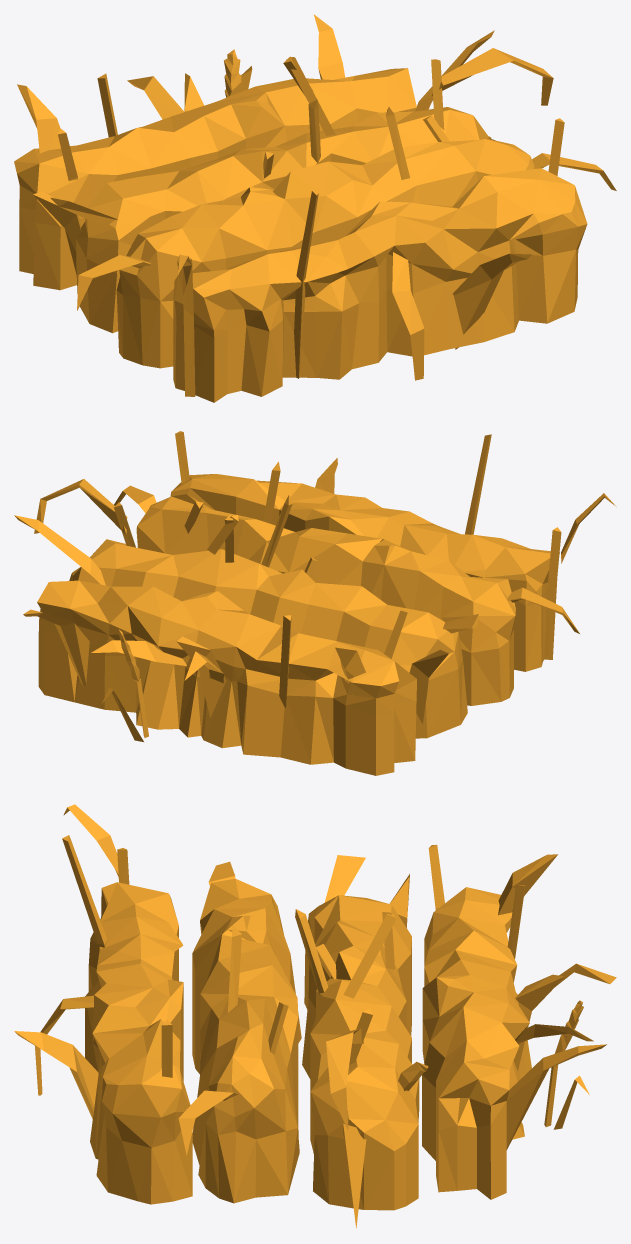
File: SM_Wheat_Harvested_Square_1x1m_A.fbx
The picture shows the model from 3 angles, top to bottom: view 1: azimuth 30°, elevation 25°; view 2: azimuth 150°, elevation 25°; view 3: azimuth 270°, elevation 25°; orthographic projection. The views are drawn at different scales.
Visible parts, largest first — view 1: wheat-harvested-square-1x1m-a; view 2: wheat-harvested-square-1x1m-a; view 3: wheat-harvested-square-1x1m-a.
Boxes of the visible parts, x1,y1,x2,y2 form: wheat-harvested-square-1x1m-a: (14, 14, 616, 402); wheat-harvested-square-1x1m-a: (14, 431, 616, 775); wheat-harvested-square-1x1m-a: (14, 804, 616, 1228).
Bounding box in the file's own units: 1.47 × 0.5461 × 1.36.
